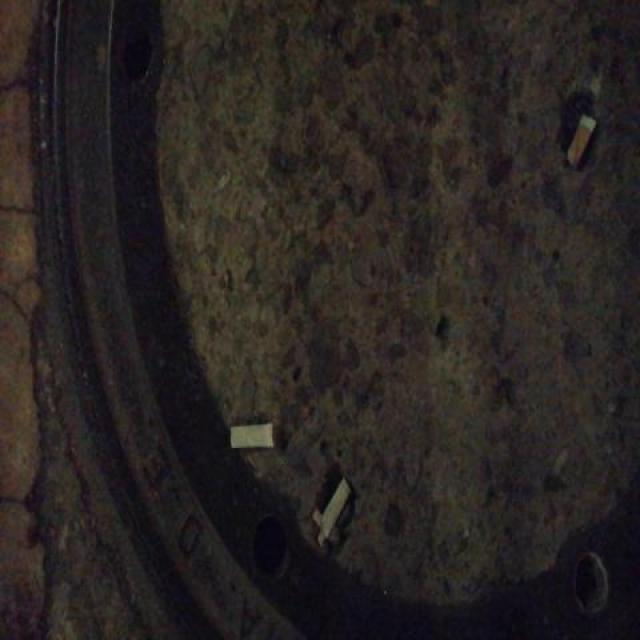non-organic waste: (318, 474, 355, 542), (566, 111, 598, 174), (225, 418, 279, 453)
